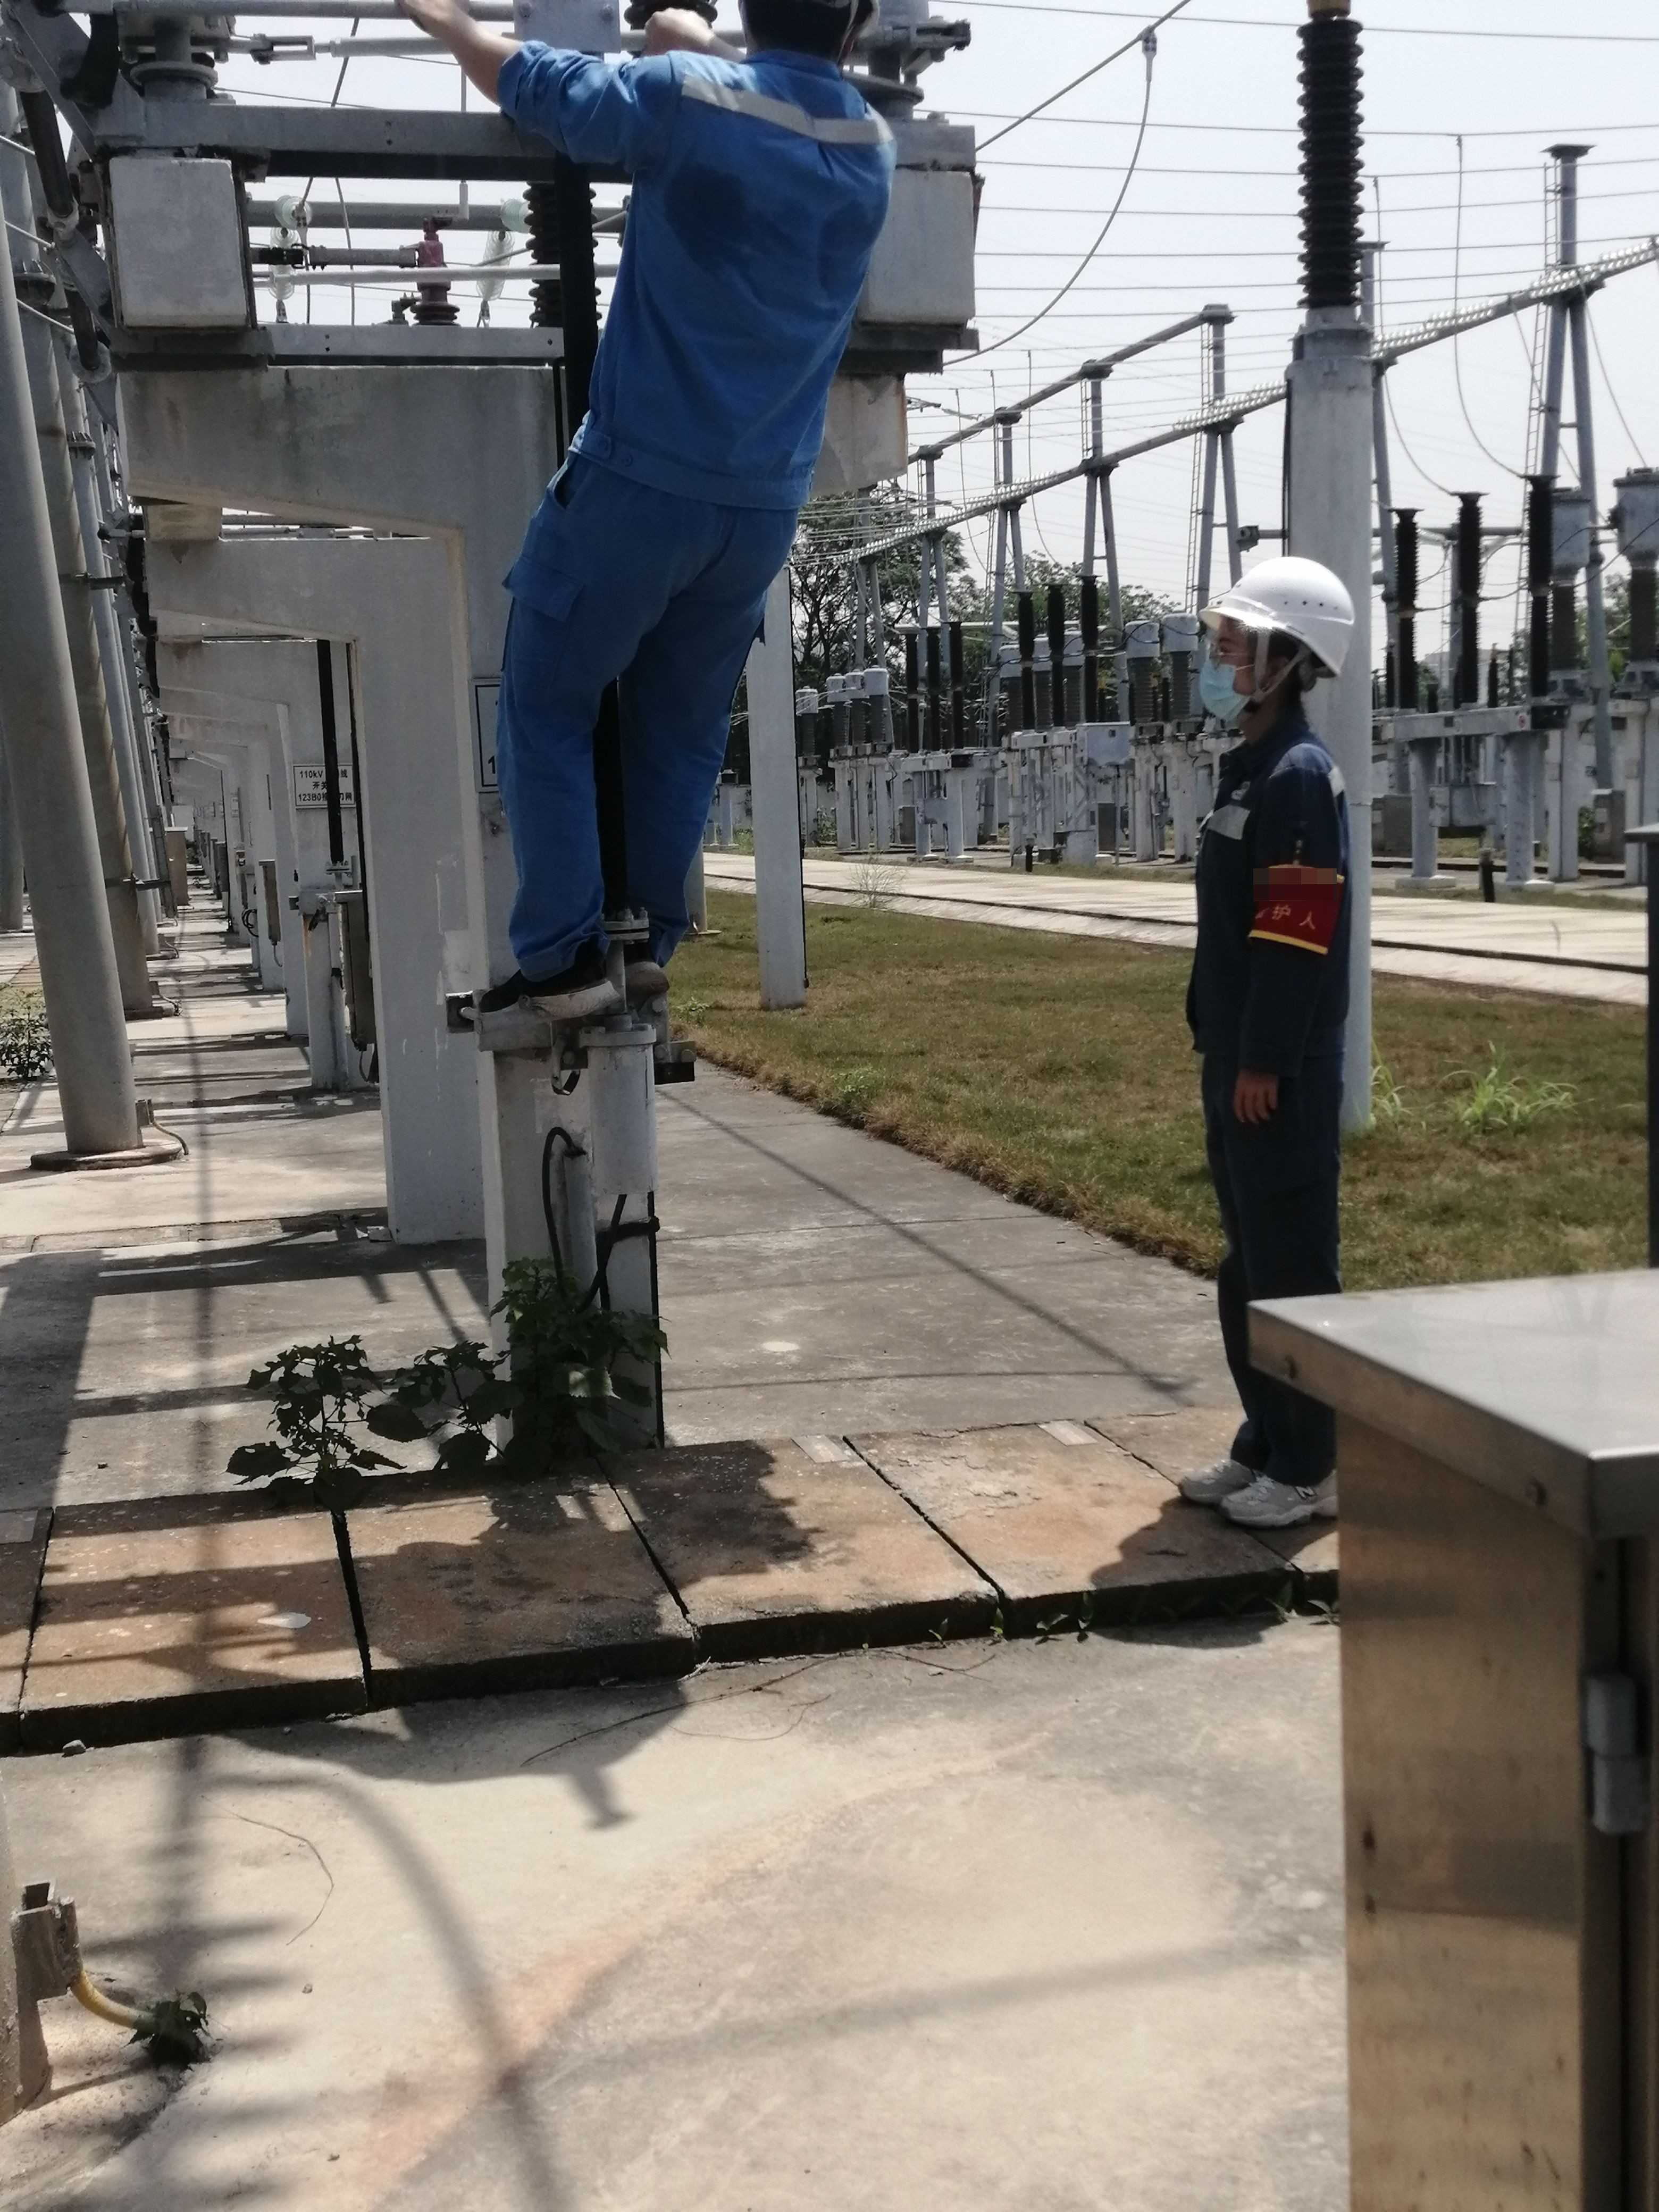downsuit: (486, 523, 796, 974), (1206, 1090, 1344, 1480)
upsuit: (507, 44, 904, 500), (1187, 723, 1366, 1069)
wrongtop: (392, 2, 552, 120)
